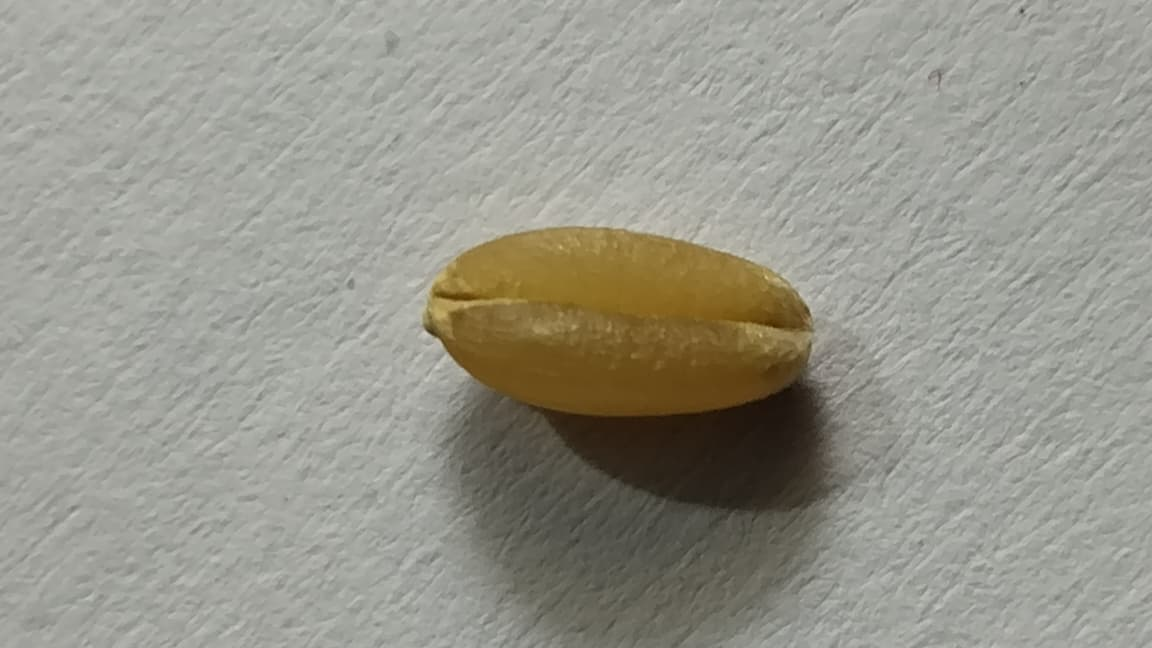healthy: (425, 225, 812, 416)
